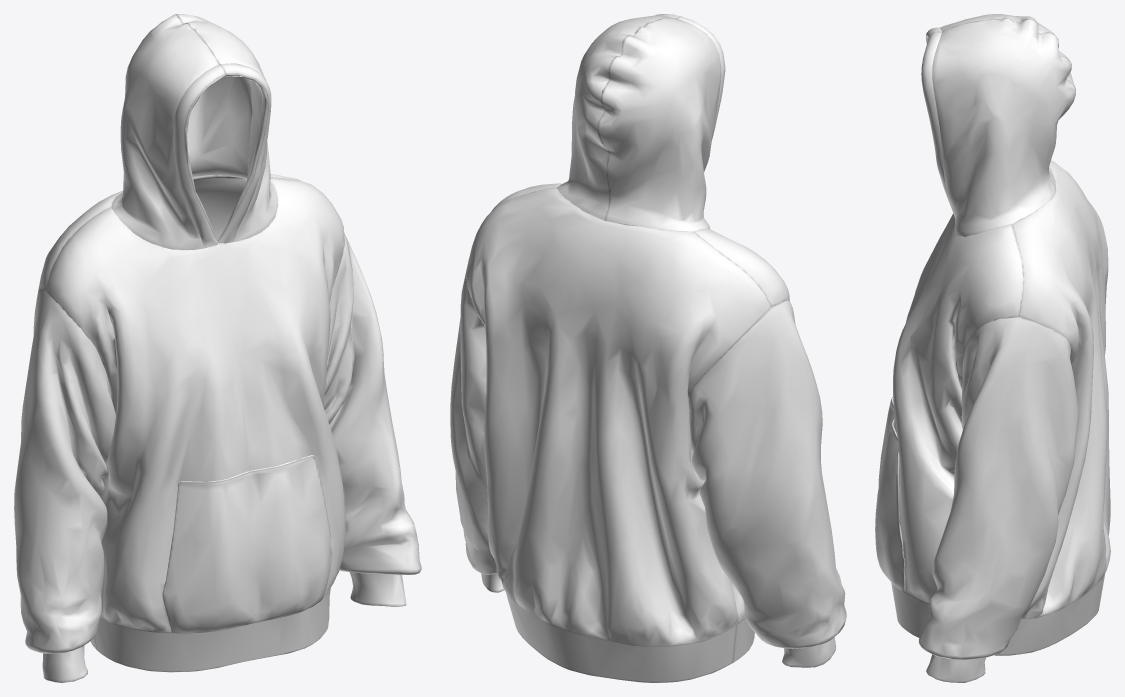
Rendered from hoodie-3.glb.
3 renders of one model, left to right at view 1: azimuth 30°, elevation 25°; view 2: azimuth 150°, elevation 25°; view 3: azimuth 270°, elevation 25°, orthographic. The views are drawn at different scales.
Parts seen in each view (by area): view 1: Hero-Hoodie; view 2: Hero-Hoodie; view 3: Hero-Hoodie.
Boxes of the visible parts, x1,y1,x2,y2 form: Hero-Hoodie: (14,14,421,682); Hero-Hoodie: (450,14,846,682); Hero-Hoodie: (875,14,1110,682).
Size of the model in its own units: 1.29 by 2 by 0.7312.
1 material, 1 textured.
